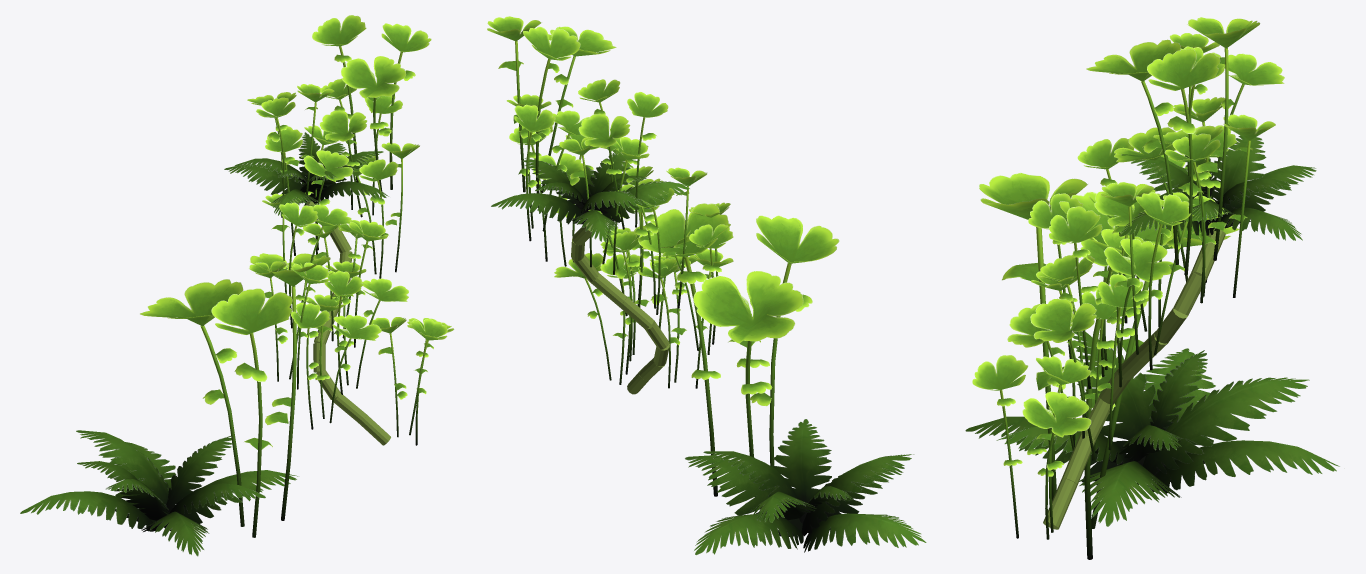
Rendered from Hollow_Stump_Greenery.glb.
The picture shows the model from 3 angles, left to right: view 1: azimuth 30°, elevation 25°; view 2: azimuth 150°, elevation 25°; view 3: azimuth 270°, elevation 25°; orthographic projection. The views are drawn at different scales.
Visible parts, largest first — view 1: Patch_01, Patch_00; view 2: Patch_01, Patch_00; view 3: Patch_01, Patch_00.
Part boxes in pixels (box(x1,y1,x2,y2)): Patch_01: box(224, 15, 454, 445); Patch_00: box(20, 253, 330, 556); Patch_01: box(487, 16, 733, 394); Patch_00: box(638, 203, 926, 555); Patch_01: box(972, 17, 1316, 539); Patch_00: box(965, 172, 1344, 559).
Bounding box in the file's own units: 1.09 × 1.11 × 0.6353.
Materials: 3 (2 with a texture image).
